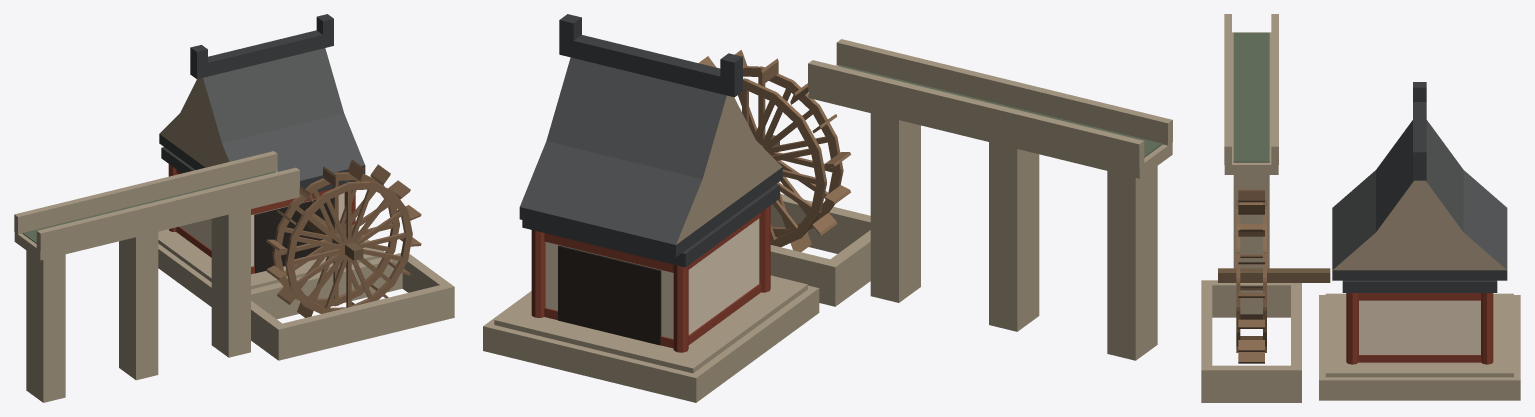
Rendered from B03_far.glb.
3 views of the same model, side by side, from view 1: azimuth 30°, elevation 25°; view 2: azimuth 150°, elevation 25°; view 3: azimuth 270°, elevation 25° (orthographic). The views are drawn at different scales.
Parts seen in each view (by area): view 1: B03_far; view 2: B03_far; view 3: B03_far.
Part boxes in pixels (x1=…): B03_far: x1=14, y1=14, x2=454, y2=402; B03_far: x1=483, y1=14, x2=1172, y2=402; B03_far: x1=1201, y1=14, x2=1520, y2=402.
Size of the model in its own units: 21.75 by 11.85 by 14.25.
